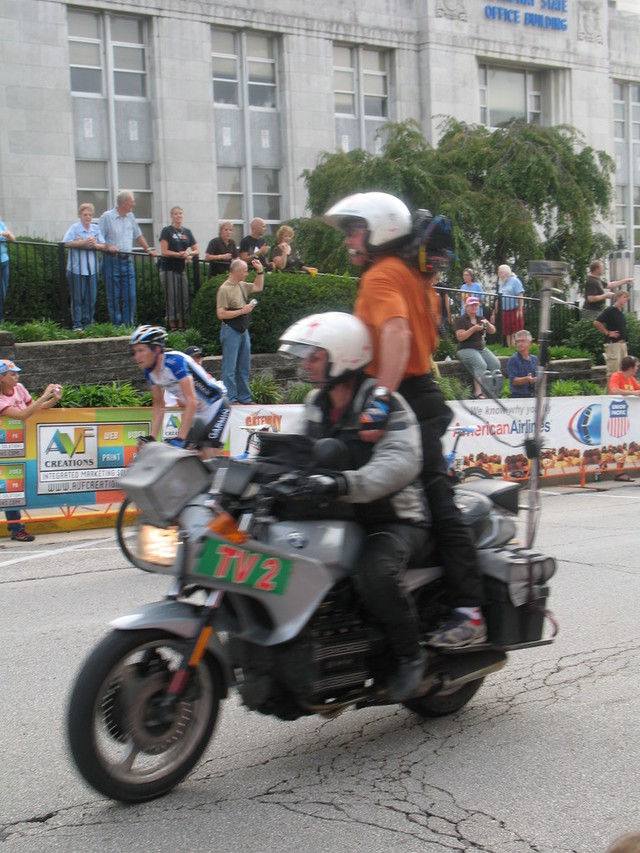helmet: (330, 190, 421, 257), (283, 304, 369, 373)
